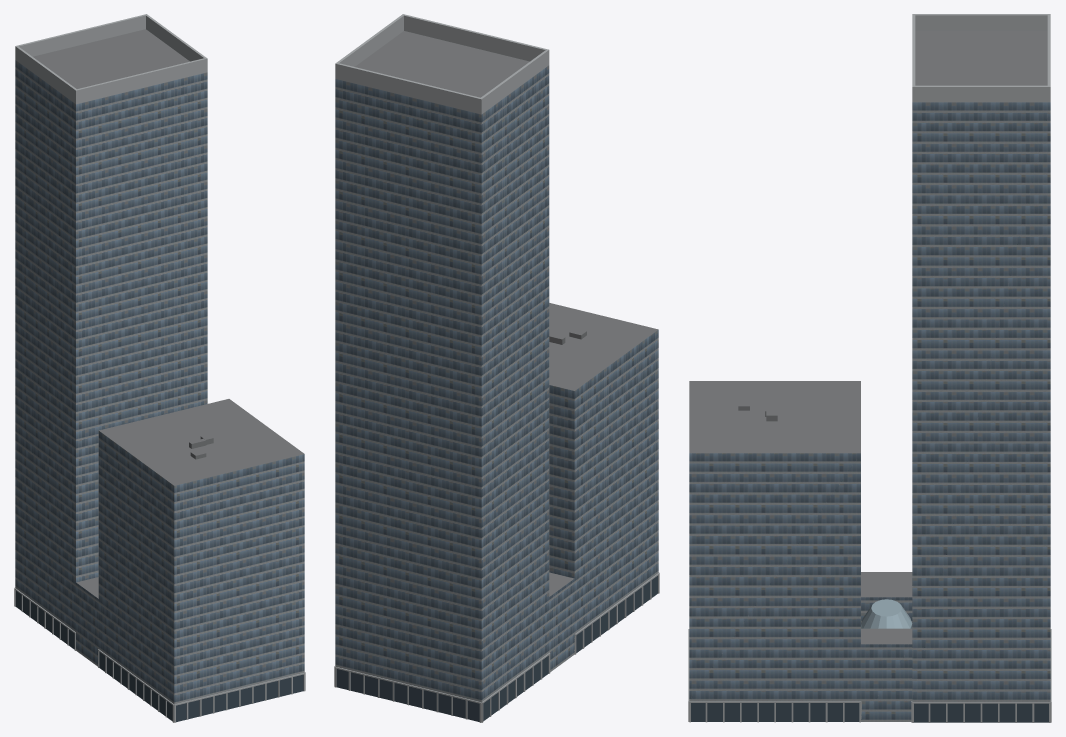
The model's file is bloomberg_tower.glb.
3 renders of one model, left to right at view 1: azimuth 30°, elevation 25°; view 2: azimuth 150°, elevation 25°; view 3: azimuth 270°, elevation 25°, orthographic. The views are drawn at different scales.
Visible parts, largest first — view 1: bloomberg_tower; view 2: bloomberg_tower; view 3: bloomberg_tower.
Boxes of the visible parts, box(x1,y1,x2,y2) form: bloomberg_tower: box(14, 14, 305, 722); bloomberg_tower: box(334, 14, 659, 722); bloomberg_tower: box(688, 14, 1051, 722).
Bounding box in the file's own units: 61.29 × 246 × 127.
2 materials, 2 textured.
